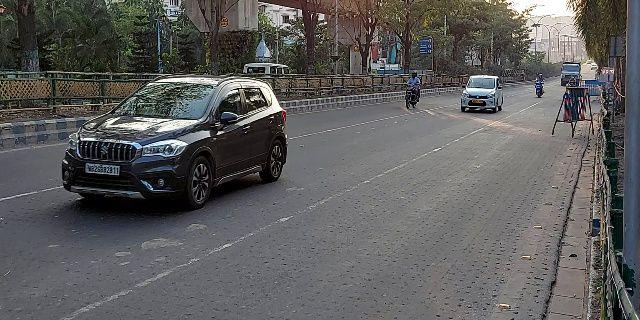Car: (57, 67, 290, 211), (456, 72, 506, 116)
Motorbike: (400, 70, 422, 114), (532, 68, 546, 99)
